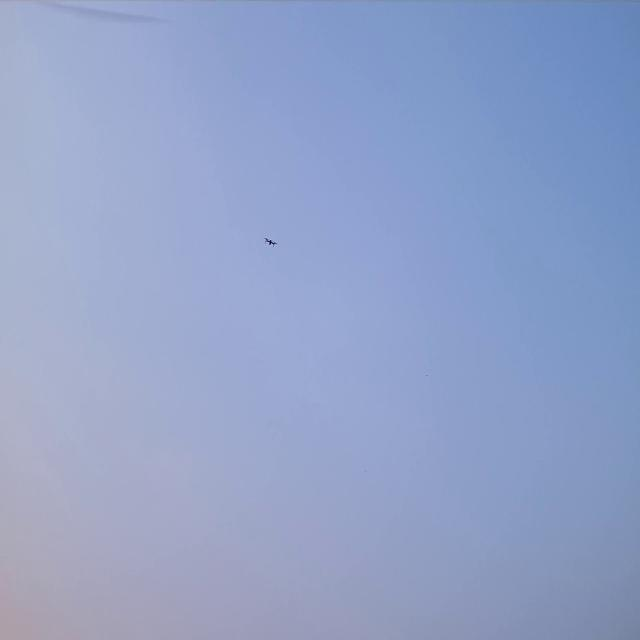UAV: (264, 236, 278, 249)
